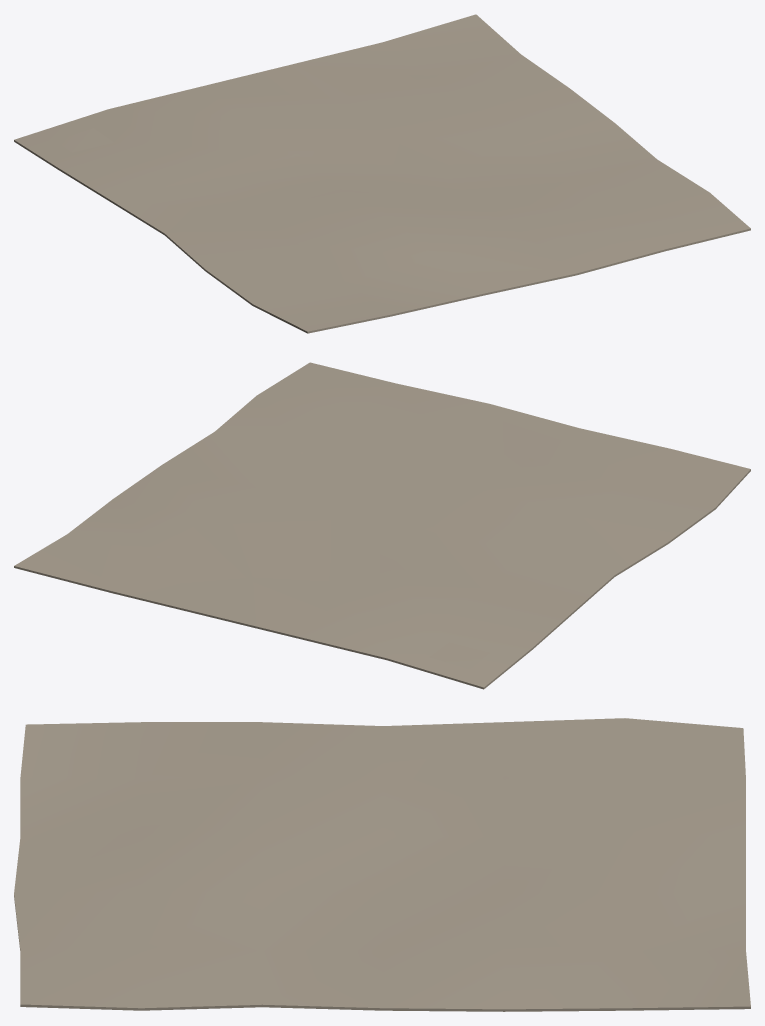
Rendered from Carpet.fbx.
3 views of the same model, one above another, from view 1: azimuth 30°, elevation 25°; view 2: azimuth 150°, elevation 25°; view 3: azimuth 270°, elevation 25° (orthographic). The views are drawn at different scales.
Parts seen in each view (by area): view 1: pCube53; view 2: pCube53; view 3: pCube53.
Boxes of the visible parts, x1,y1,x2,y2 form: pCube53: (14,14,750,333); pCube53: (14,362,750,689); pCube53: (14,718,750,1011).
Size of the model in its own units: 11.6 by 0.3604 by 12.34.
